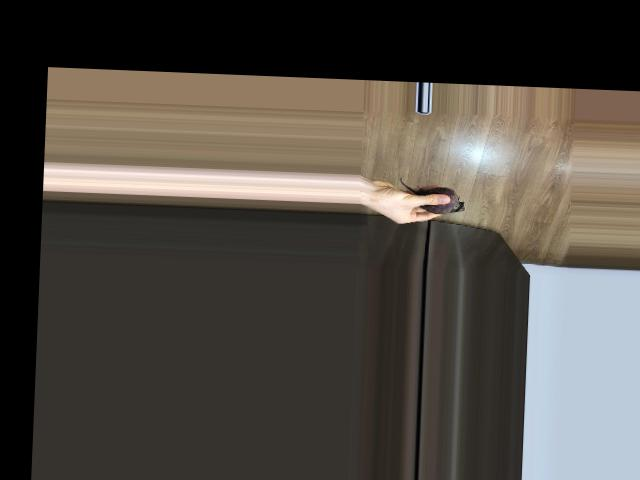beet: (399, 176, 466, 215)
